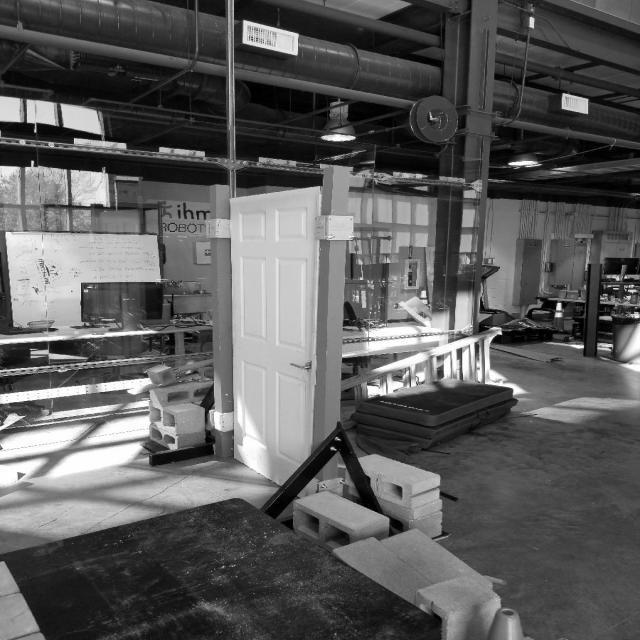door: (226, 183, 324, 504), (286, 354, 318, 374)
